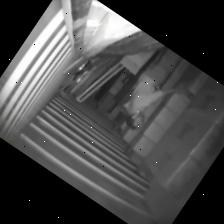person: (126, 47, 181, 128)
